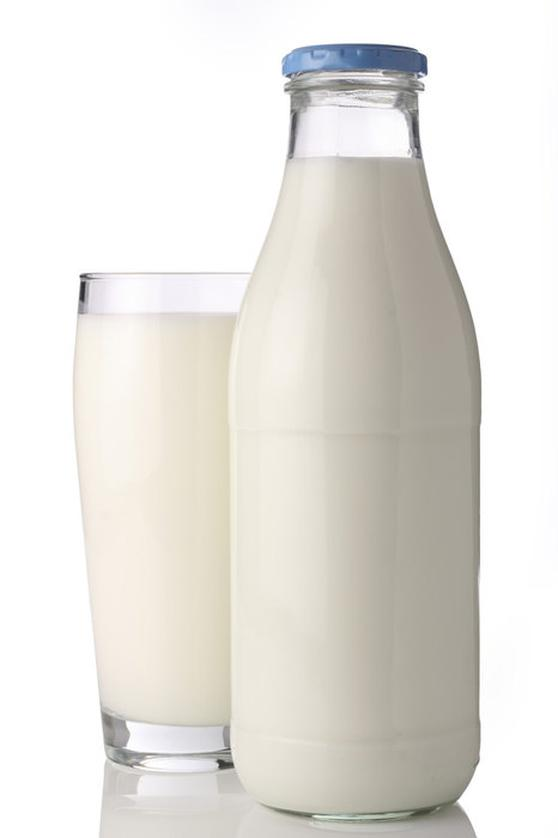milk: (234, 38, 488, 823)
